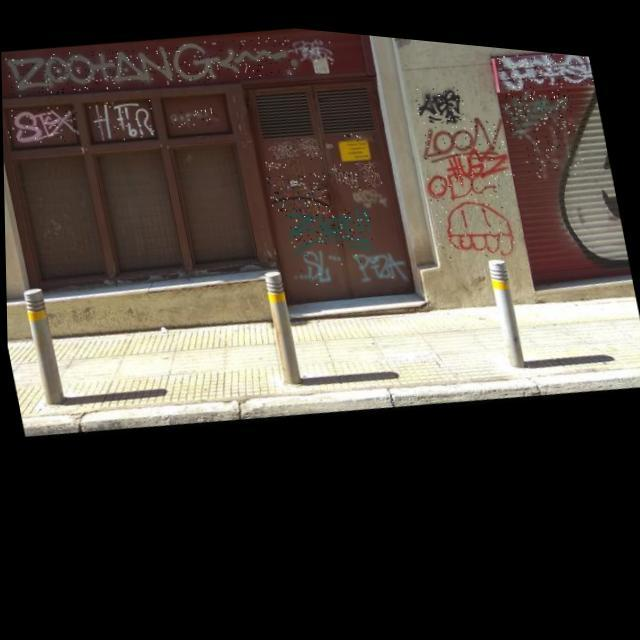-: (2, 8, 294, 118), (423, 152, 518, 257), (284, 226, 408, 294), (416, 100, 508, 161), (284, 193, 377, 250), (492, 37, 594, 88), (518, 100, 585, 172), (499, 70, 575, 126), (2, 98, 81, 150), (88, 90, 156, 144), (266, 161, 330, 212), (444, 134, 514, 176), (410, 72, 467, 122), (286, 25, 338, 66), (168, 100, 217, 128), (351, 176, 389, 206), (328, 152, 360, 184), (266, 129, 300, 159), (355, 150, 384, 184), (296, 126, 324, 156), (344, 122, 374, 139), (262, 149, 286, 168)
